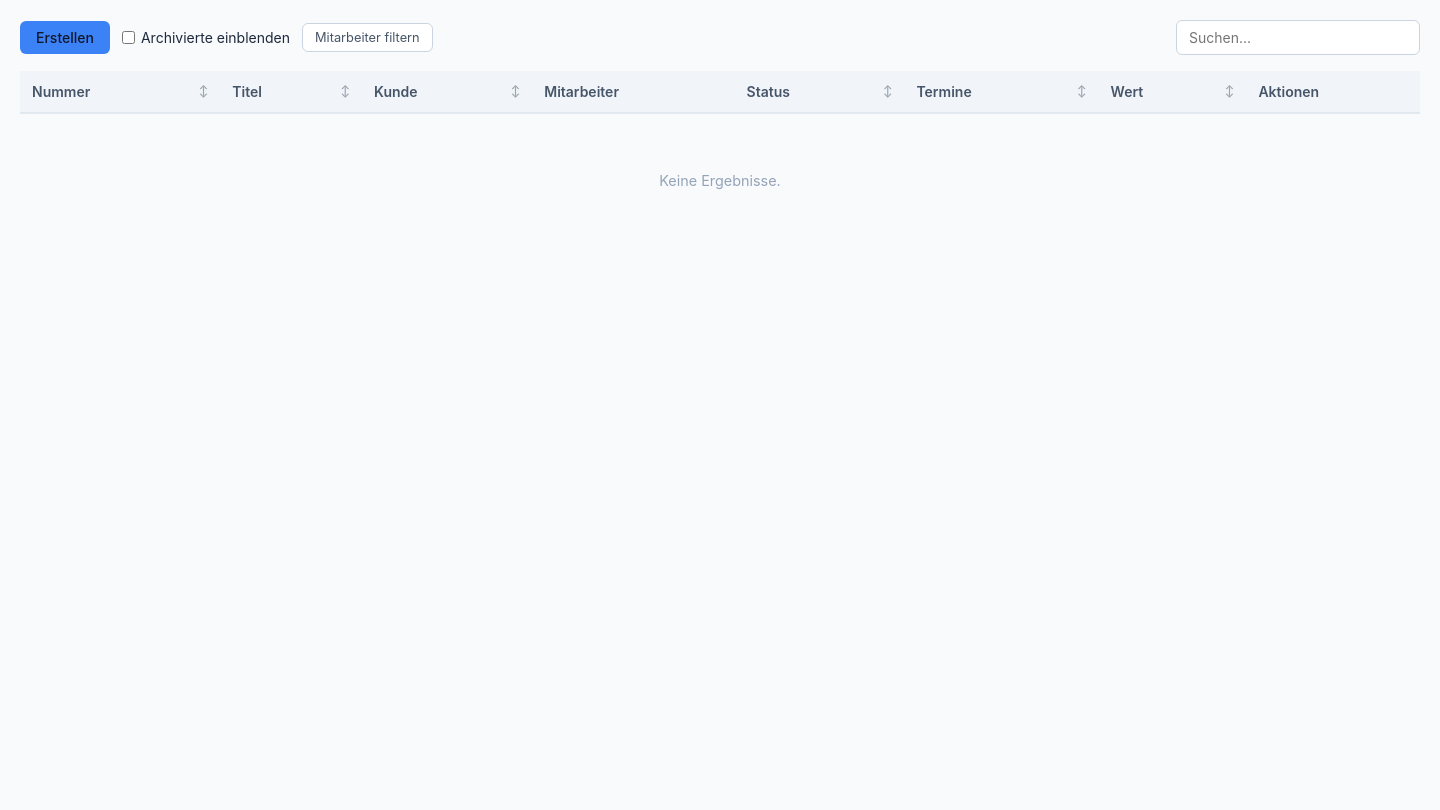
Test case: ProjectManagement — number preflight › shows "taken" on blur when the number already exists
Step 1. Click the button with test id "project-create-button" → (65, 38), box x1=20 y1=21 x2=110 y2=54
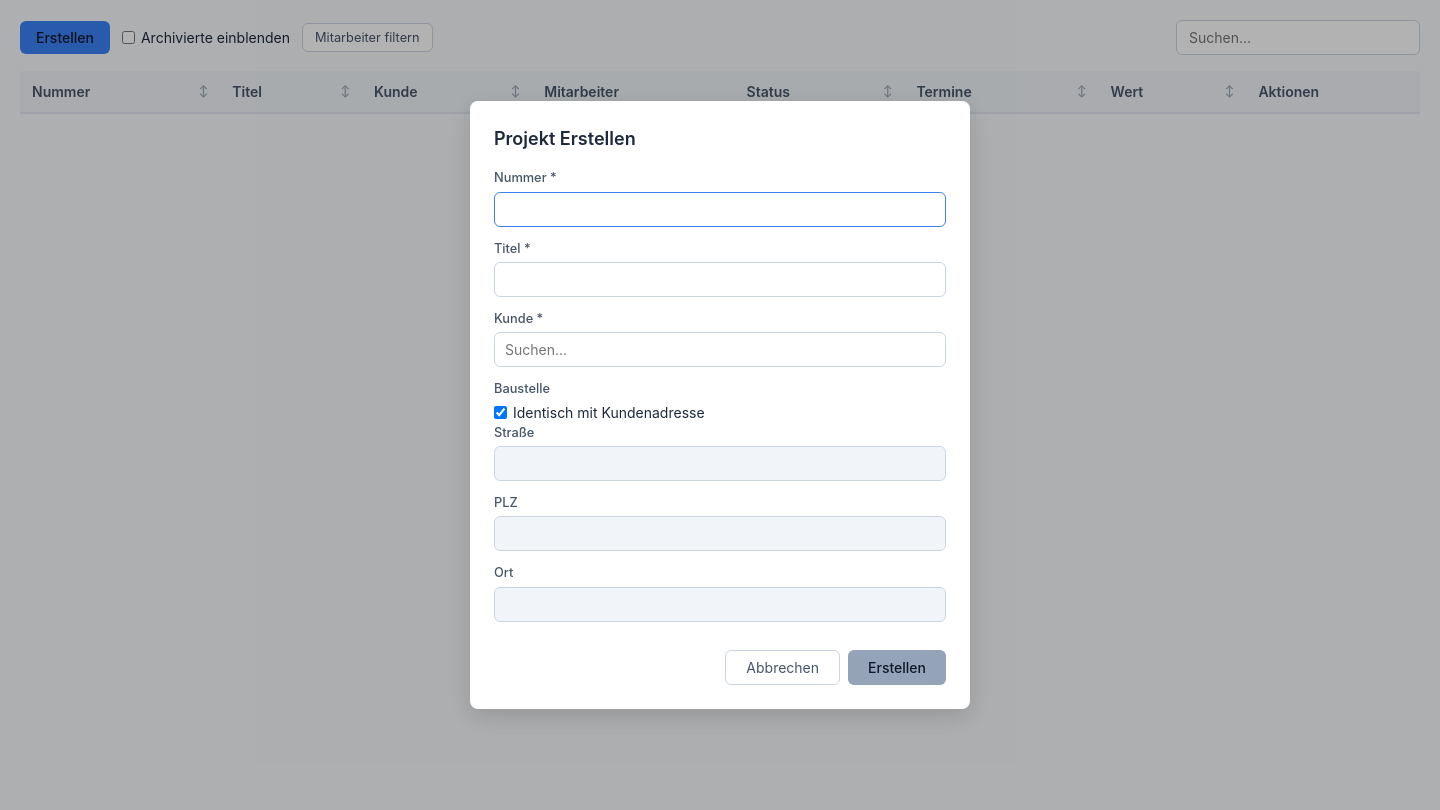
Step 2. Type "P-99" into the field with test id "project-number-input" → (720, 209), box x1=494 y1=192 x2=946 y2=226
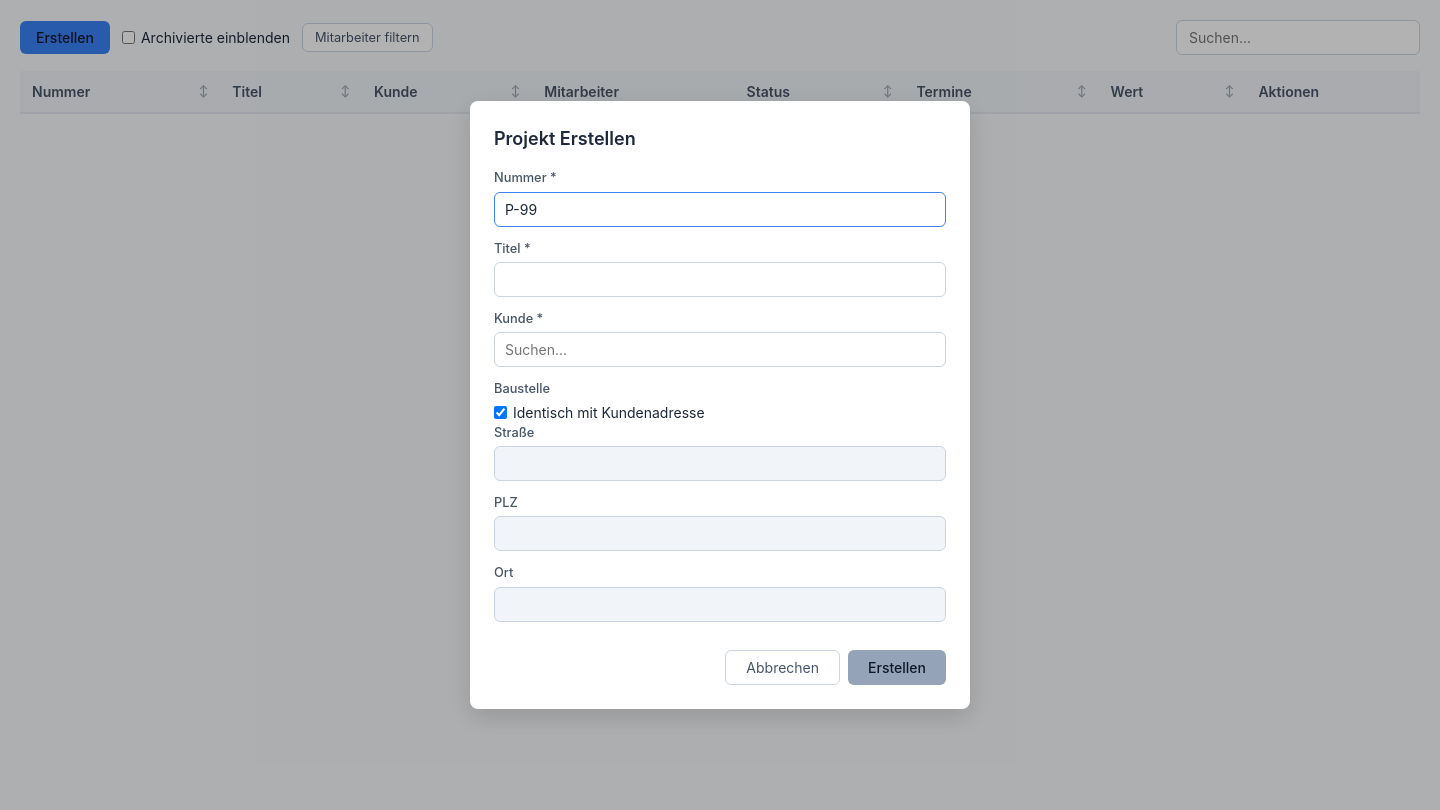
Step 3. Leave the field with test id "project-number-input", box x1=494 y1=192 x2=946 y2=226
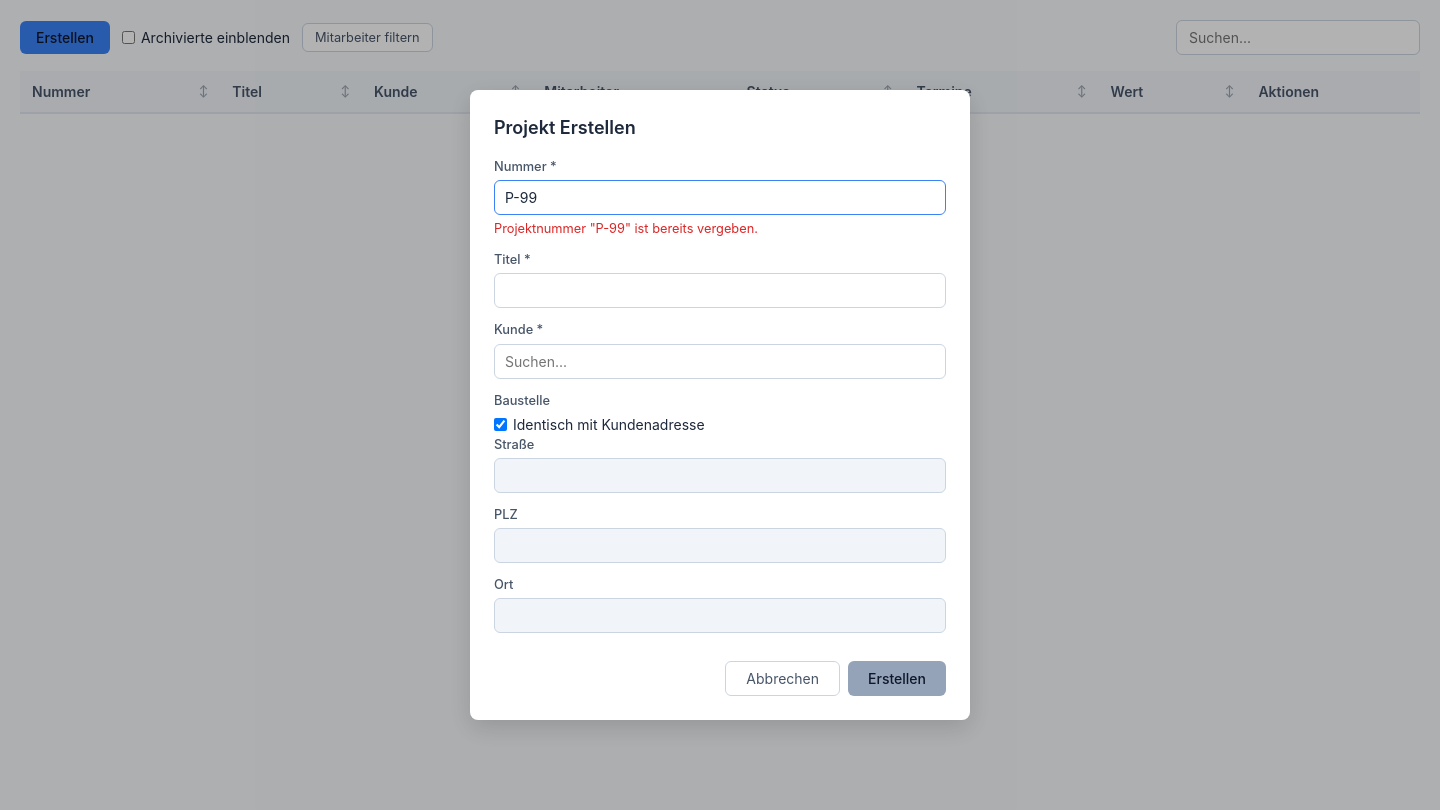
Expected: the message with test id "project-number-taken" shows "P-99", x1=494 y1=221 x2=758 y2=236
